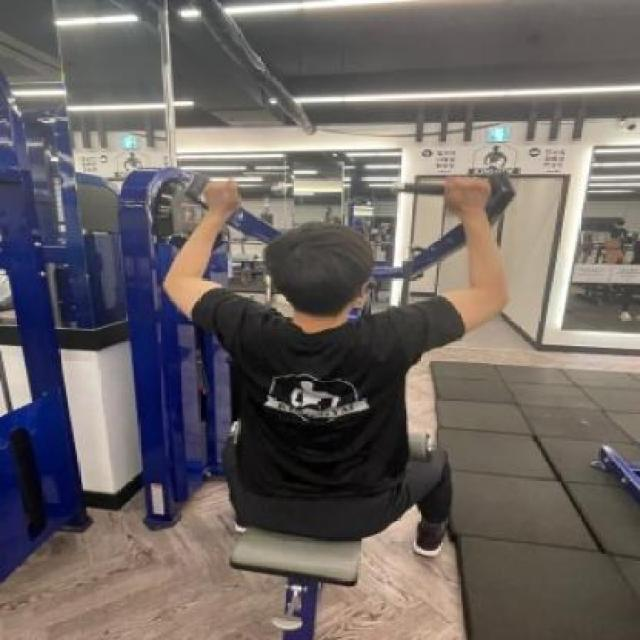Lat Pull Down: (63, 120, 542, 640)
